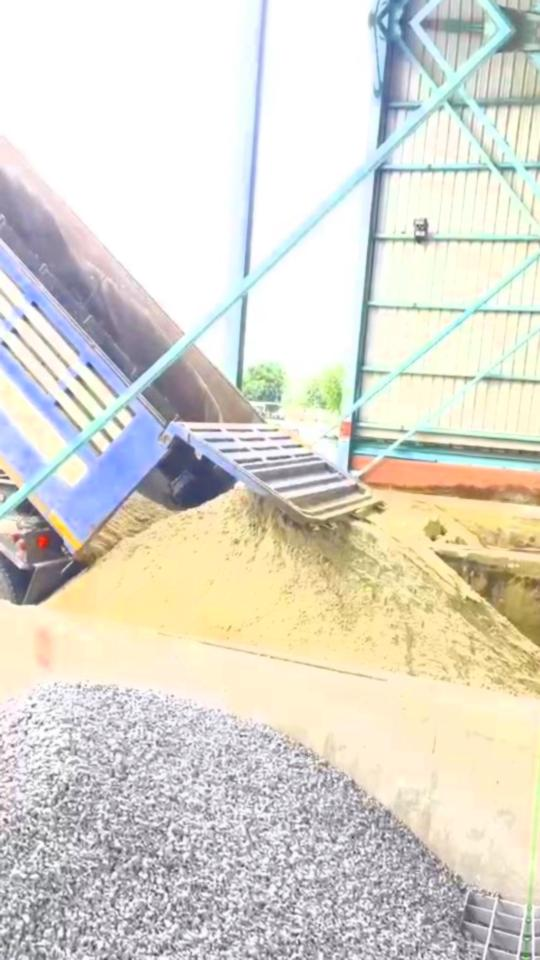gravel: (0, 684, 491, 960)
sand: (48, 490, 540, 695), (79, 492, 170, 564), (384, 499, 480, 544)
